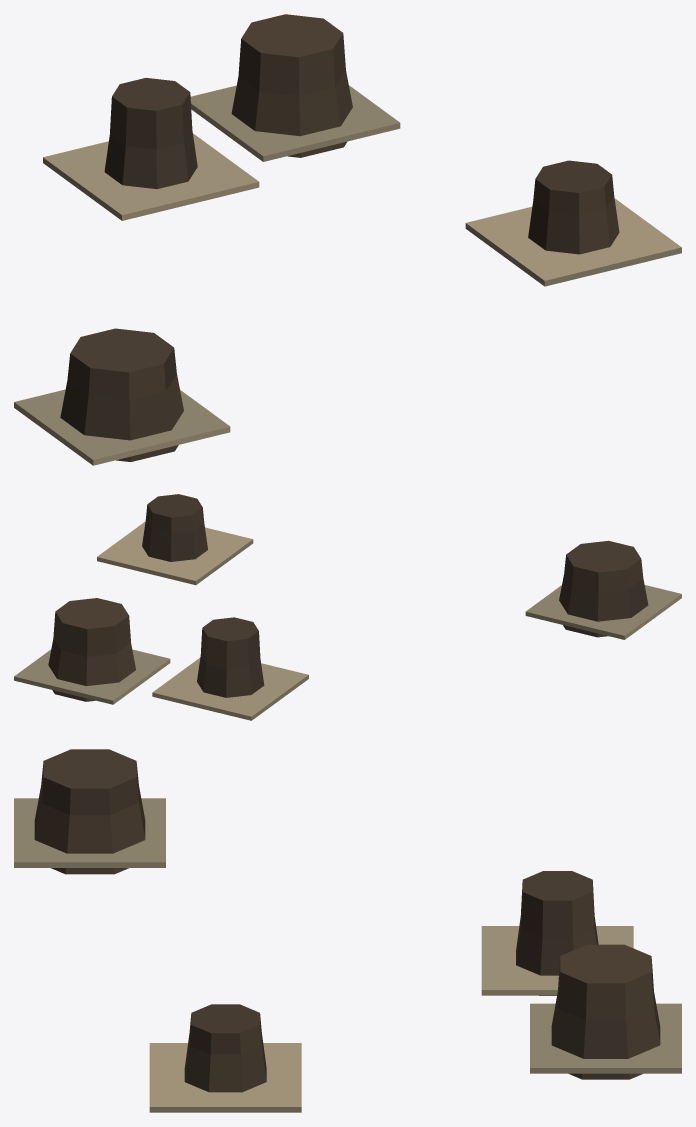
File: walk_prop_stumps.glb
The picture shows the model from 3 angles, top to bottom: view 1: azimuth 30°, elevation 25°; view 2: azimuth 150°, elevation 25°; view 3: azimuth 270°, elevation 25°; orthographic projection. The views are drawn at different scales.
Visible parts, largest first — view 1: walk_prop_stumps; view 2: walk_prop_stumps; view 3: walk_prop_stumps.
Part boxes in pixels (bbox=[...]): walk_prop_stumps: bbox=[14, 14, 681, 465]; walk_prop_stumps: bbox=[14, 494, 681, 720]; walk_prop_stumps: bbox=[14, 749, 681, 1112].
Size of the model in its own units: 4.81 by 0.6636 by 4.39.
Materials: 1 (1 with a texture image).
